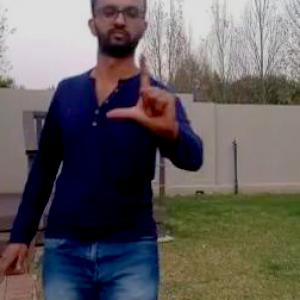land_hand: (104, 46, 178, 134)
